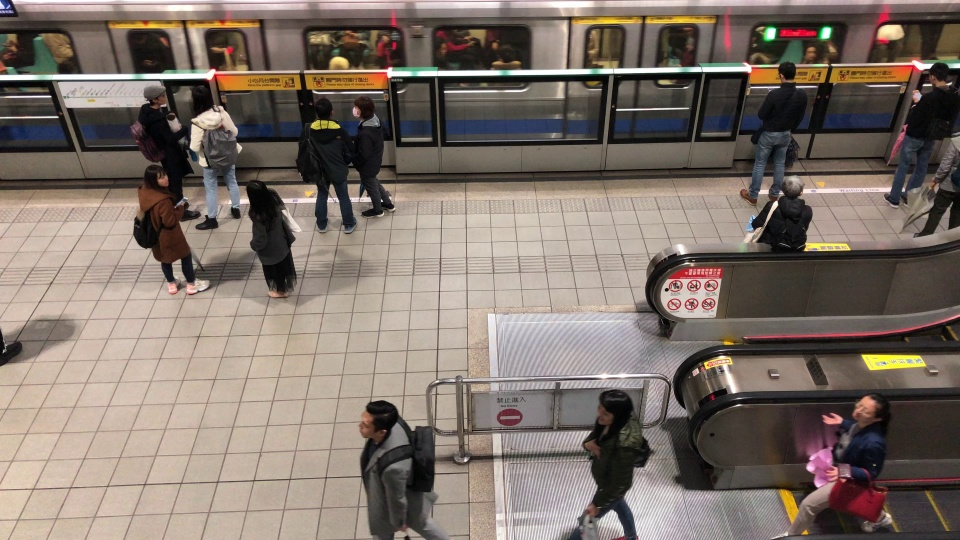person_head: (354, 400, 399, 445), (594, 388, 634, 429), (848, 394, 890, 431), (136, 165, 170, 195), (188, 86, 215, 116), (922, 62, 950, 89), (138, 85, 168, 110), (243, 179, 268, 209), (780, 175, 806, 202), (352, 94, 376, 121), (311, 97, 334, 120), (773, 63, 796, 84)
person_vbox: (771, 394, 899, 540), (344, 400, 451, 540), (568, 388, 654, 540), (117, 165, 212, 300), (881, 61, 960, 211), (121, 85, 202, 222), (289, 97, 362, 237), (738, 63, 808, 205), (177, 85, 245, 231), (232, 179, 305, 301), (343, 93, 397, 220), (907, 115, 960, 243), (739, 173, 813, 257)
